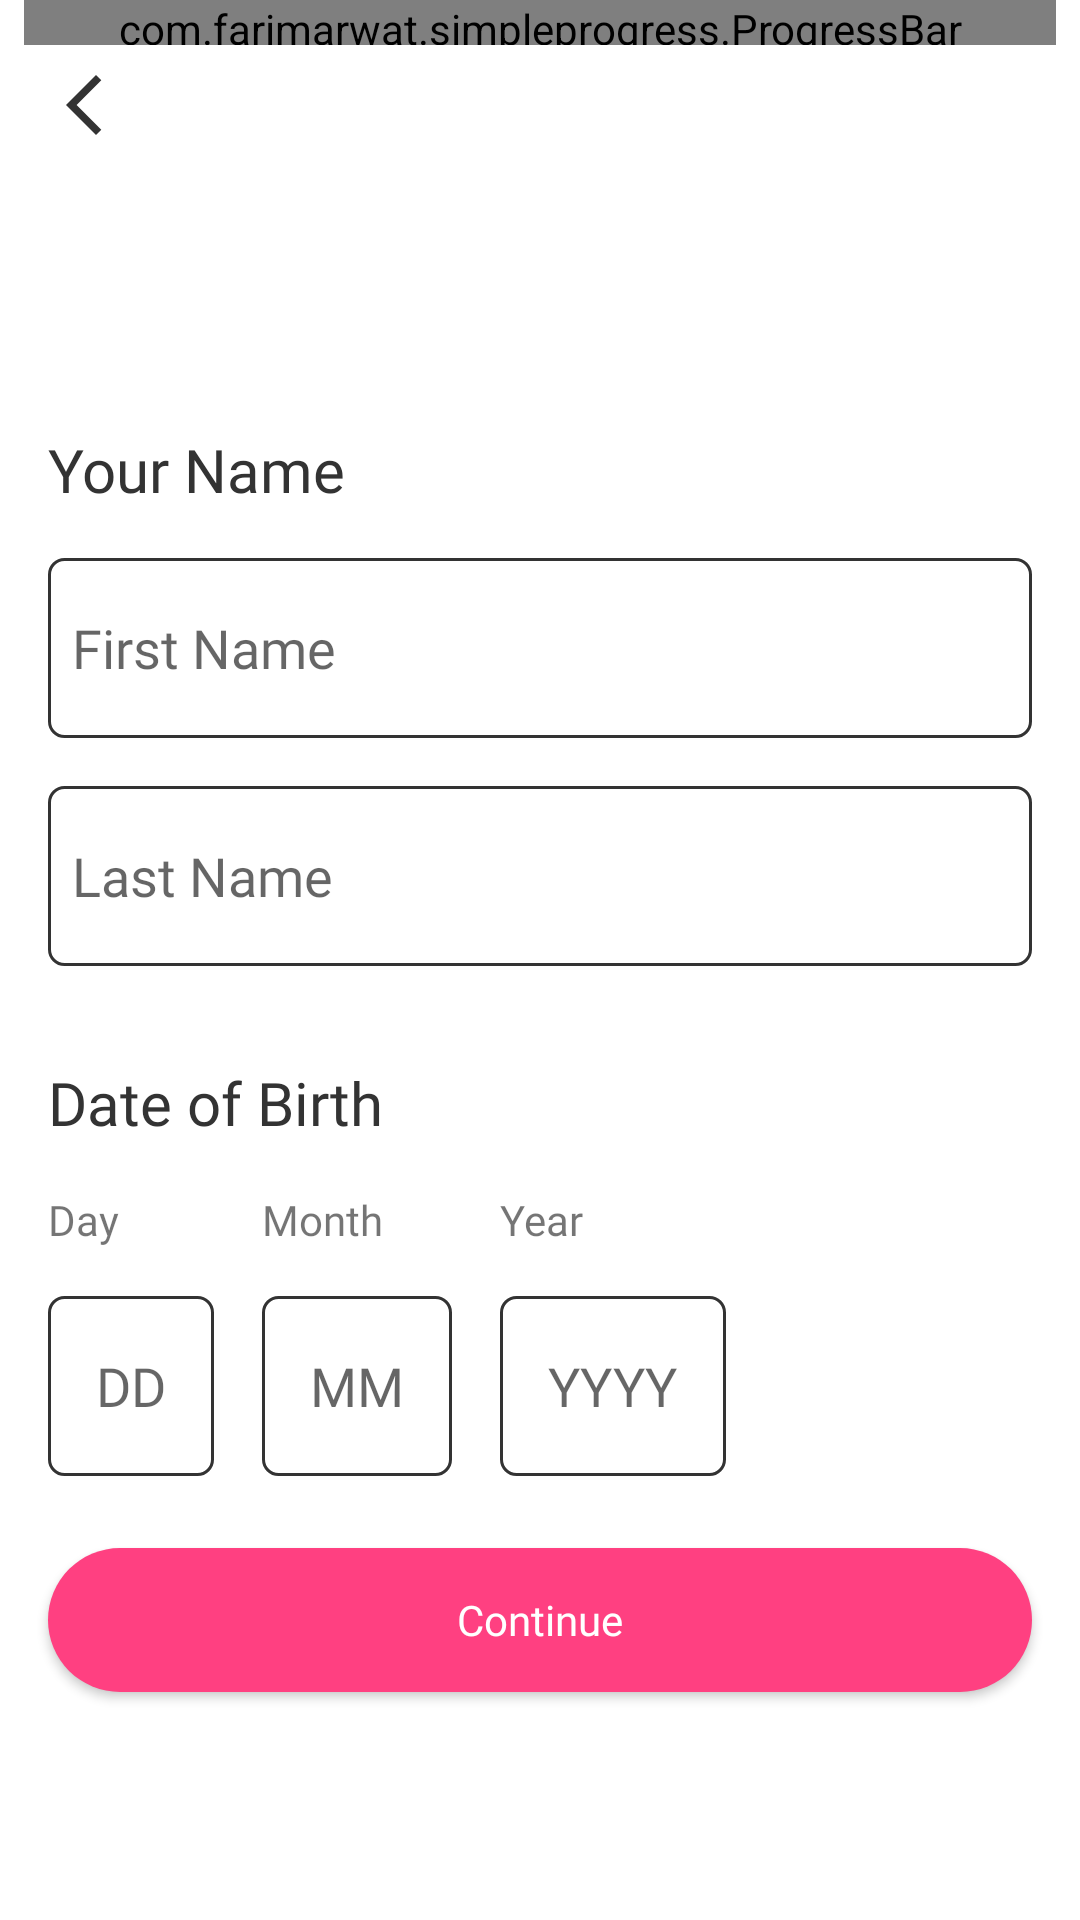

Icons on this 1080x1920 Android screen, each with its box as (x1, y1, x2, y2):
arrow back: (66, 75, 101, 135)
